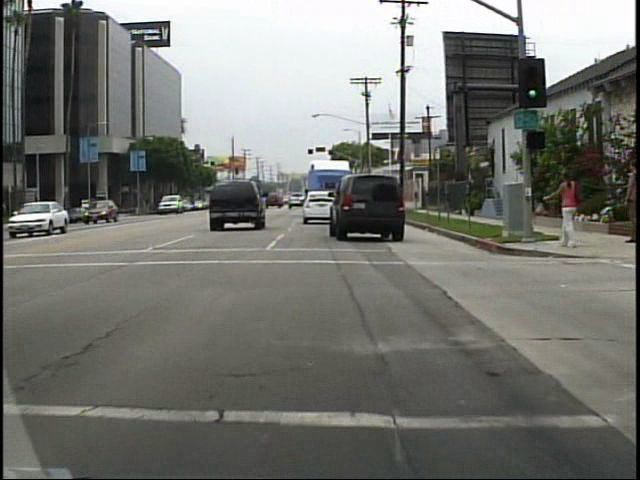person: (544, 167, 586, 250)
